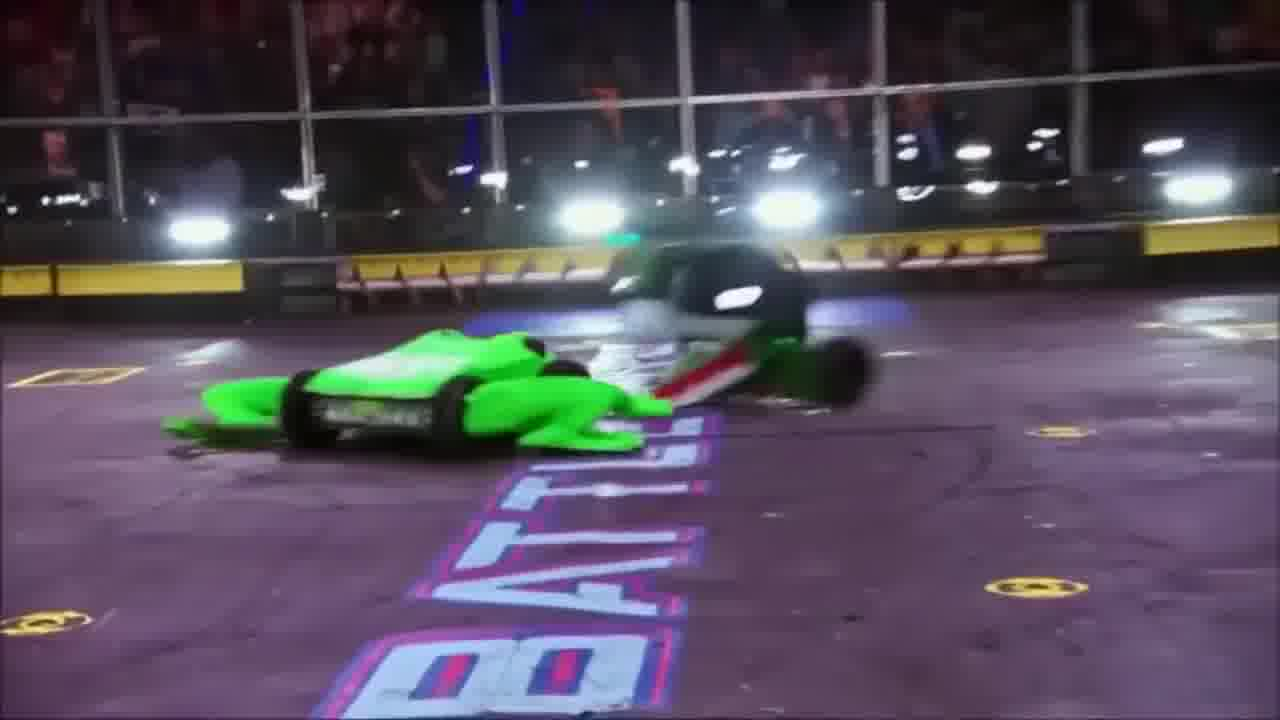combatbot: (160, 331, 673, 461), (632, 240, 875, 409)
